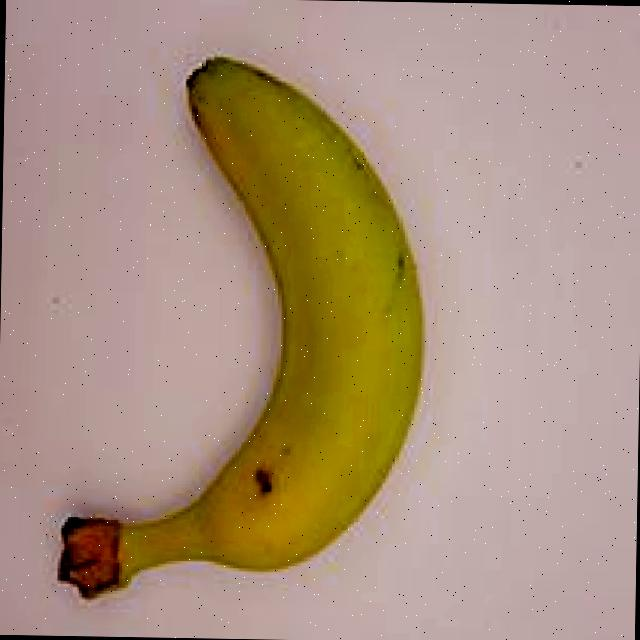Unripe: (18, 20, 474, 630)
